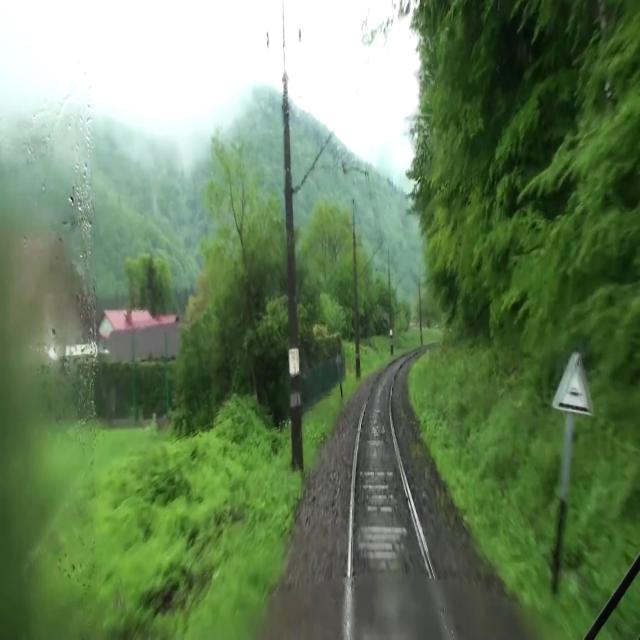rail-track: (350, 359, 451, 639)
